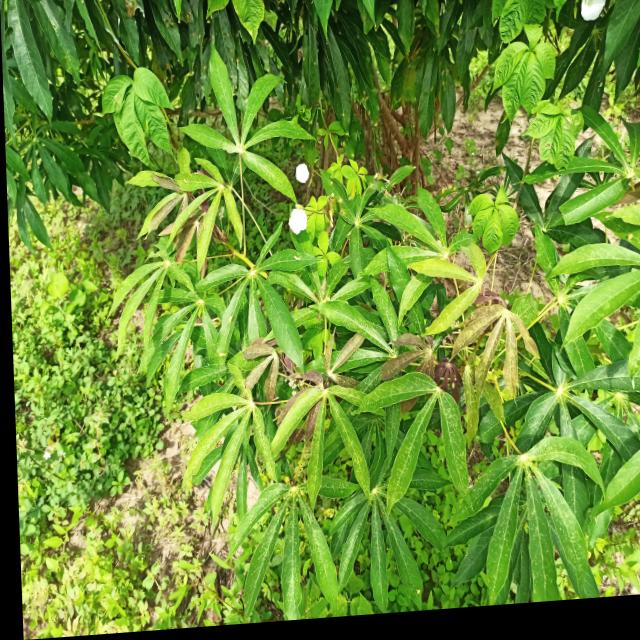Maleza: (11, 263, 116, 630), (13, 512, 227, 623), (481, 2, 569, 122), (108, 60, 174, 161), (460, 180, 521, 257), (527, 100, 576, 169)
Mosaico: (463, 297, 538, 389), (383, 325, 439, 380), (241, 335, 279, 394)
Mosca: (214, 350, 226, 360), (414, 589, 426, 599), (224, 312, 235, 322), (290, 254, 302, 263)
